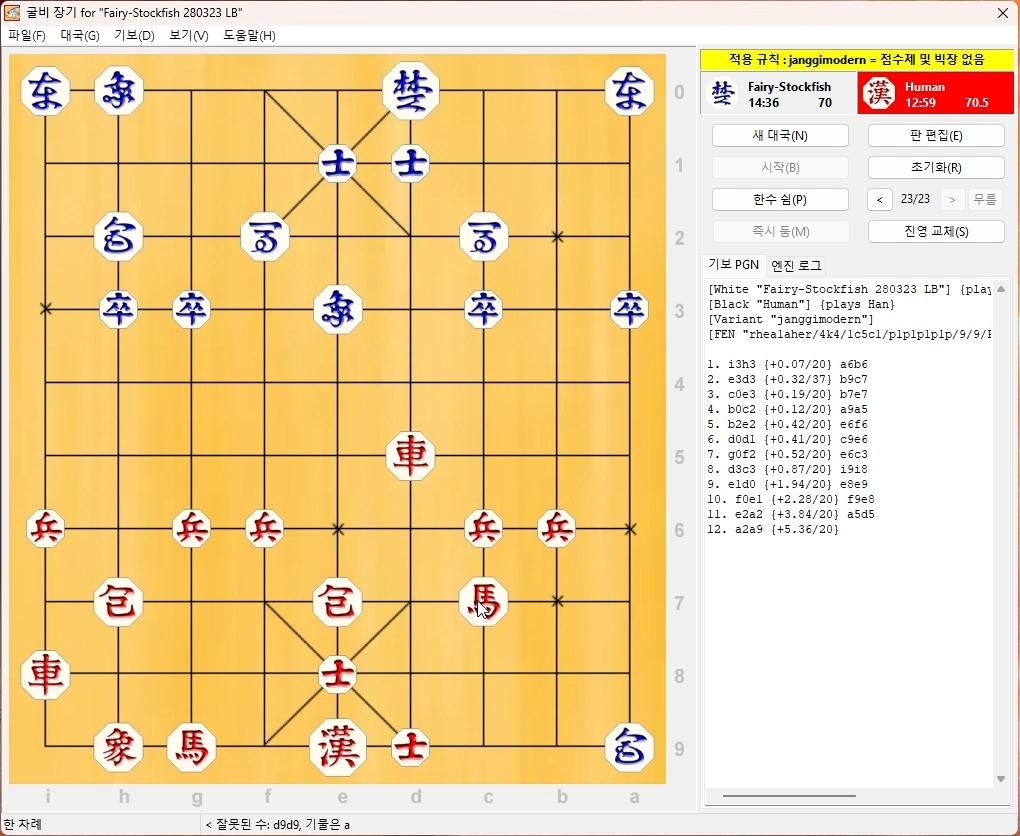cha_green: (603, 67, 654, 114), (21, 70, 69, 114)
cha_red: (389, 433, 438, 479), (20, 654, 69, 700)
jol_green: (466, 293, 505, 329), (171, 292, 210, 328), (608, 293, 647, 328), (100, 292, 138, 327)
jol_red: (465, 509, 503, 547), (24, 512, 65, 547), (537, 512, 578, 547), (173, 512, 214, 547), (246, 511, 286, 546)
ma_green: (458, 210, 508, 259), (240, 213, 290, 258)
ma_red: (166, 724, 218, 770), (459, 579, 508, 625)
po_green: (94, 217, 144, 262), (605, 725, 655, 770)
po_red: (313, 578, 362, 623), (94, 580, 144, 624)
sa_green: (318, 146, 358, 179), (391, 146, 431, 179)
sa_red: (319, 655, 360, 693), (389, 731, 431, 764)
sang_green: (312, 286, 364, 335), (95, 68, 144, 114)
sang_red: (91, 724, 144, 769)
wang_green: (382, 64, 439, 117)
wang_red: (307, 723, 366, 774)
